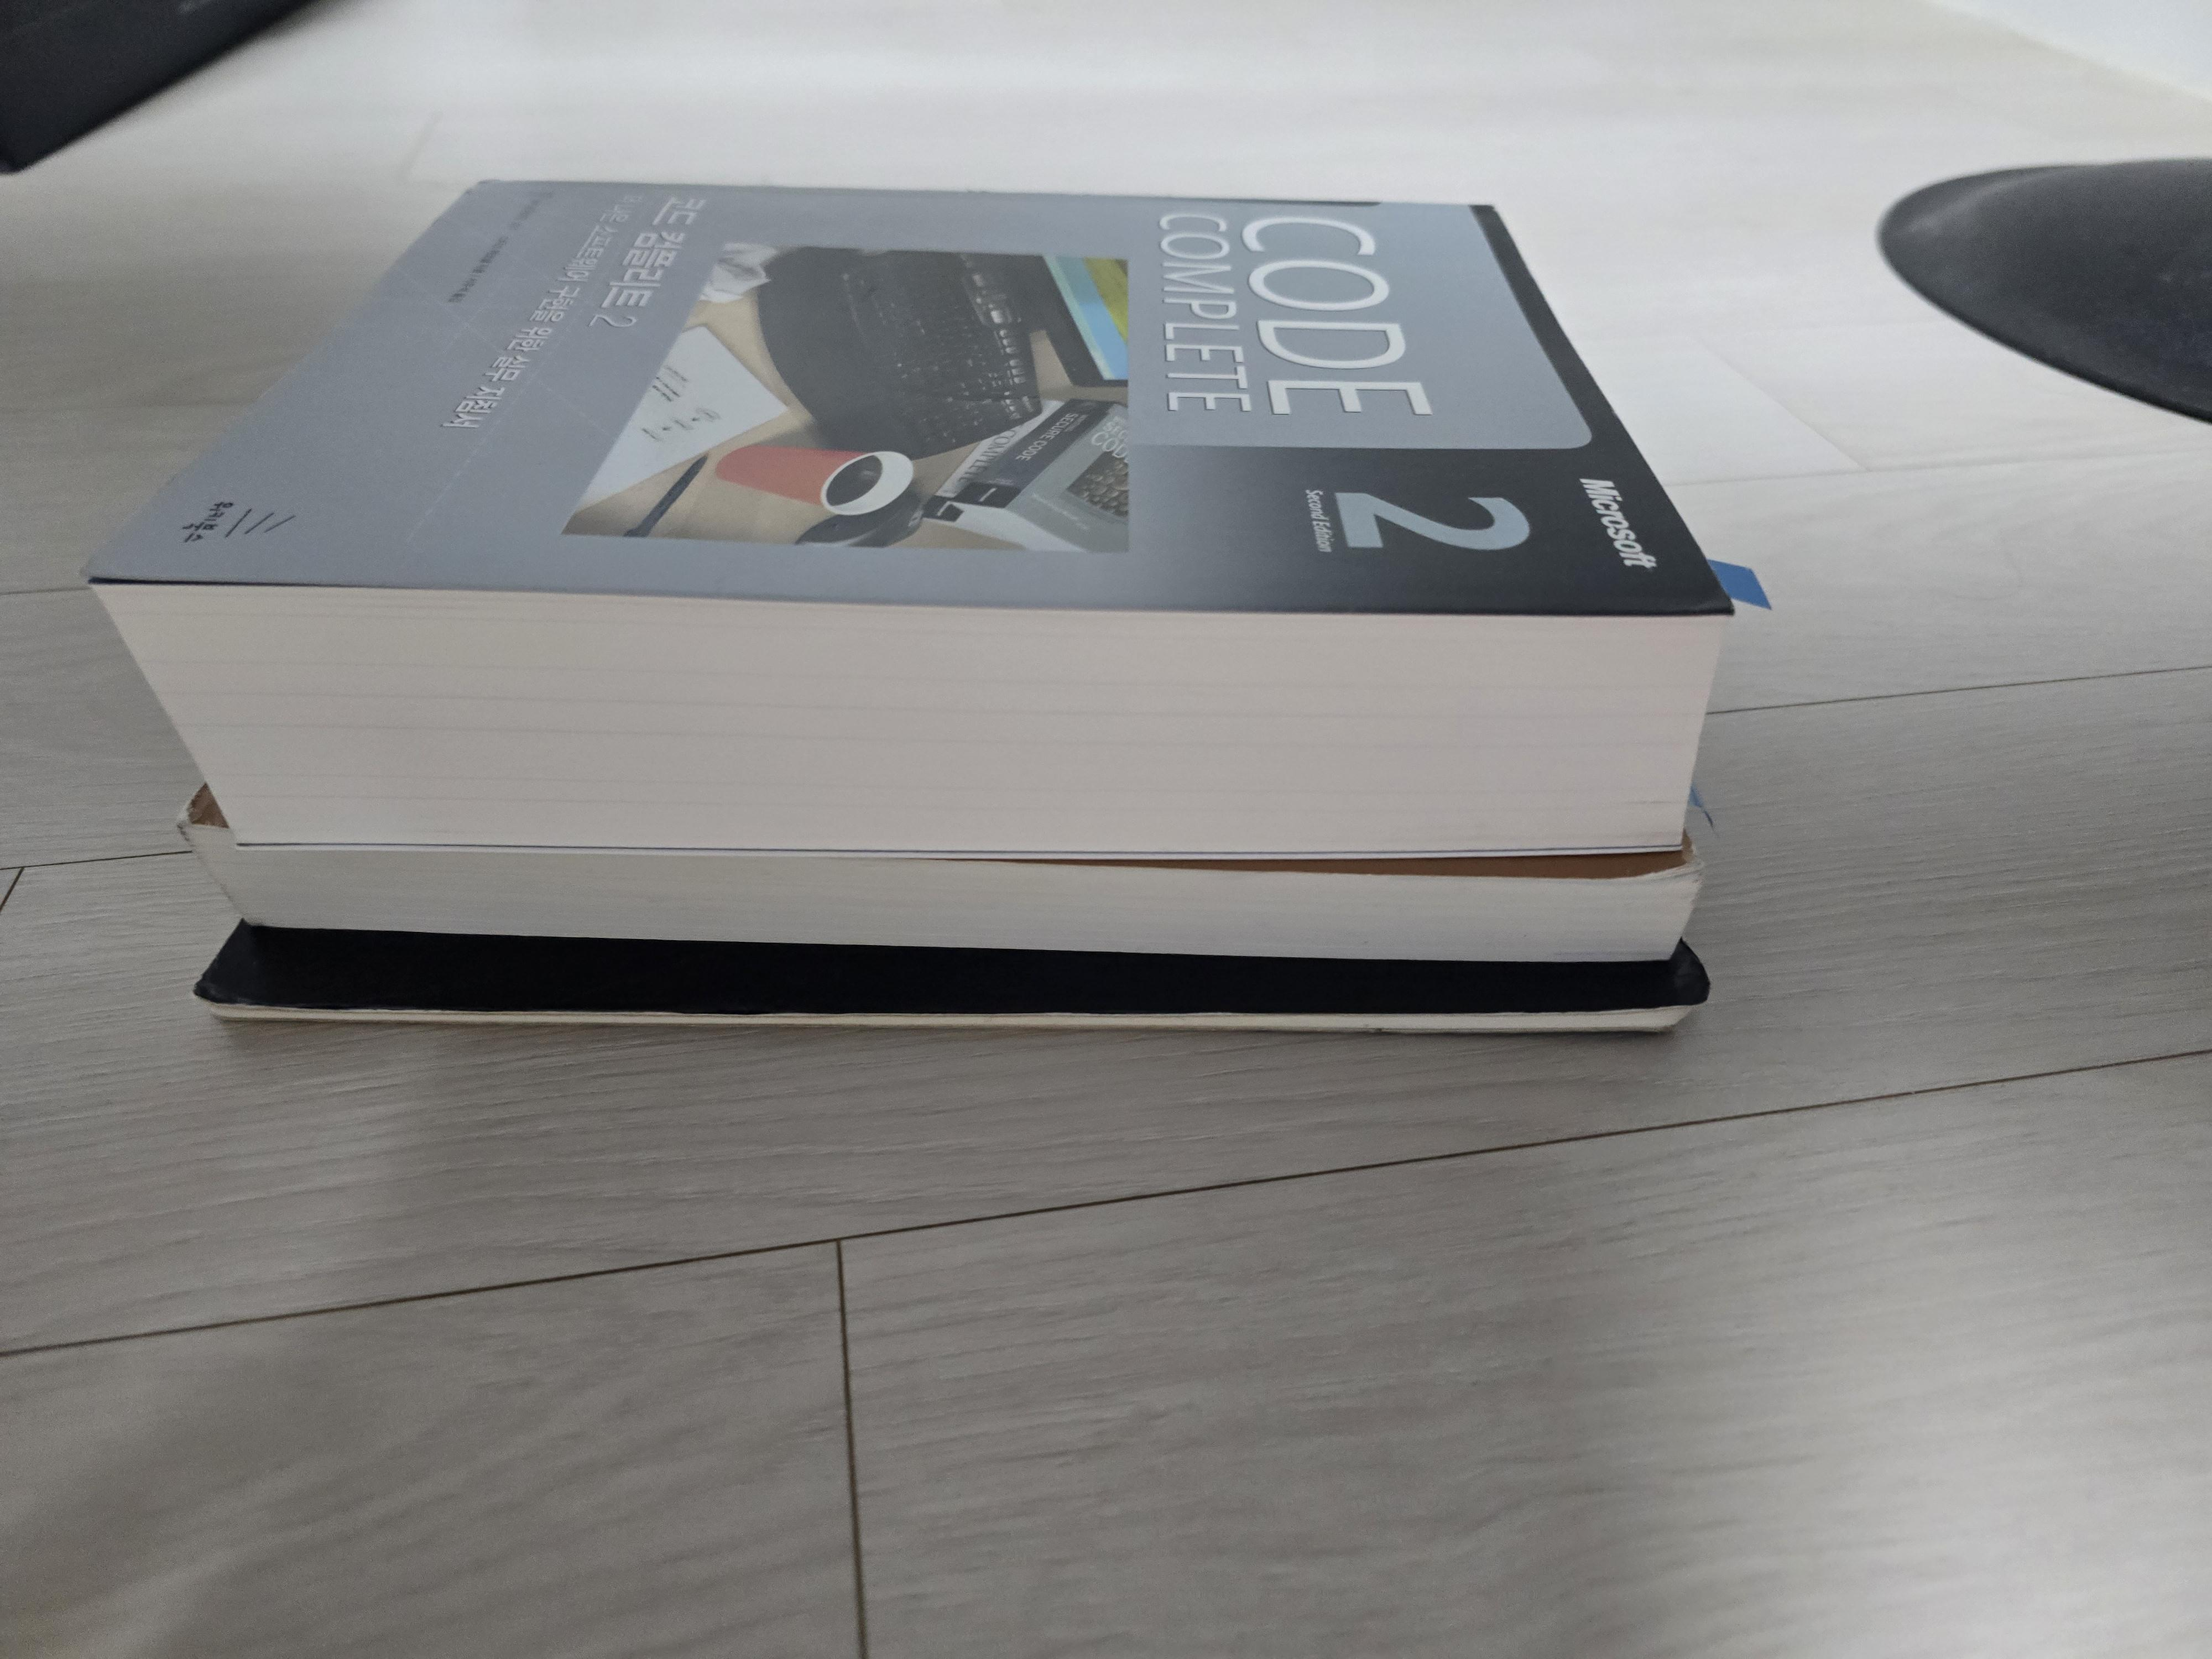book: (108, 178, 1733, 852), (169, 791, 1733, 957), (164, 929, 1740, 1042)
